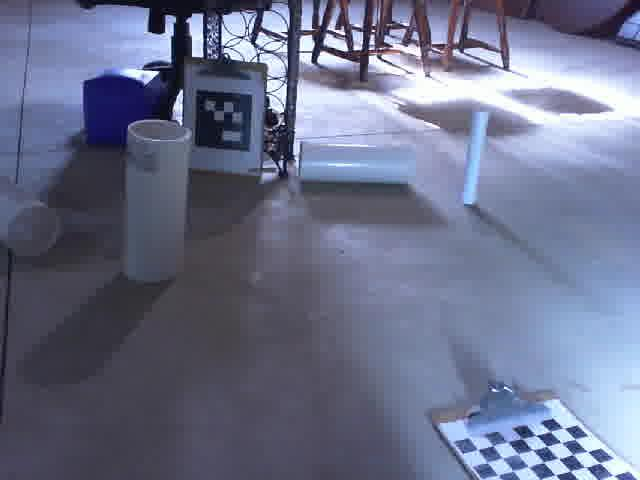coral: (122, 119, 187, 283), (0, 176, 61, 260), (295, 144, 422, 182)
